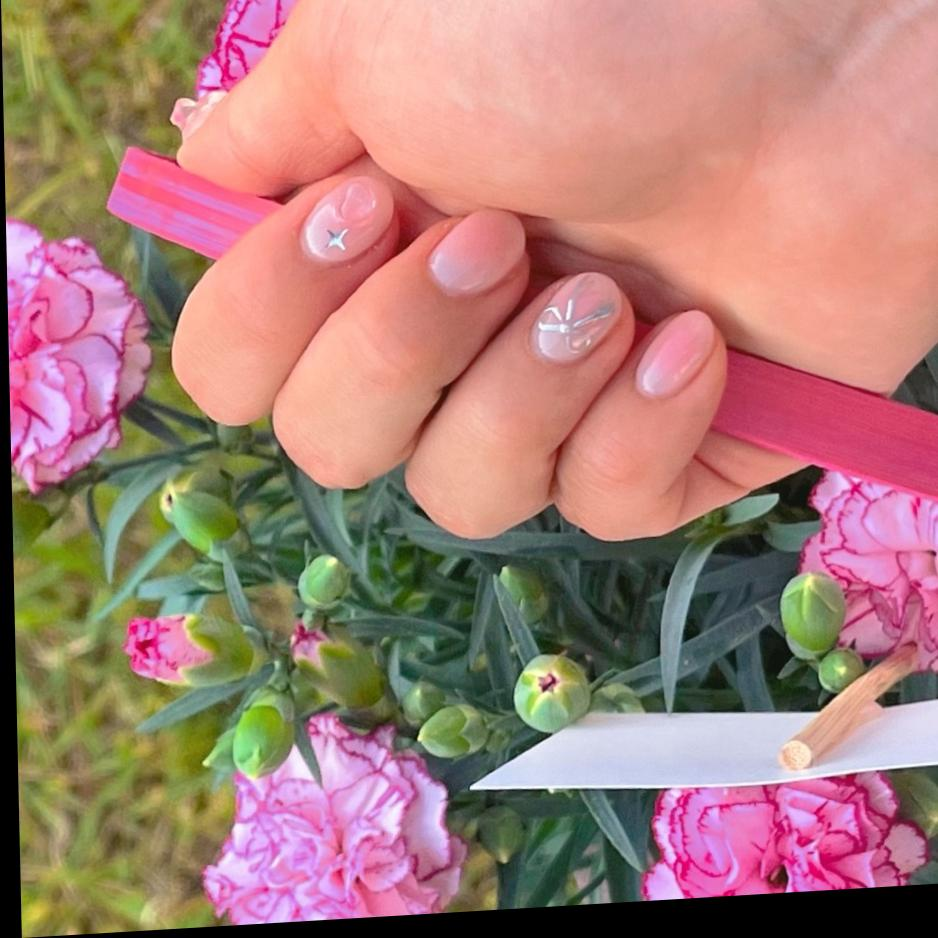nail: (101, 136, 283, 267), (423, 204, 527, 299), (526, 268, 624, 366), (297, 173, 394, 265), (631, 307, 718, 400)
